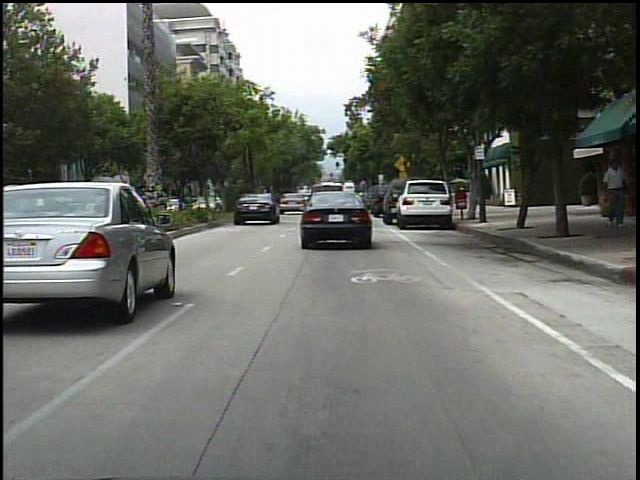person: (596, 158, 624, 231)
